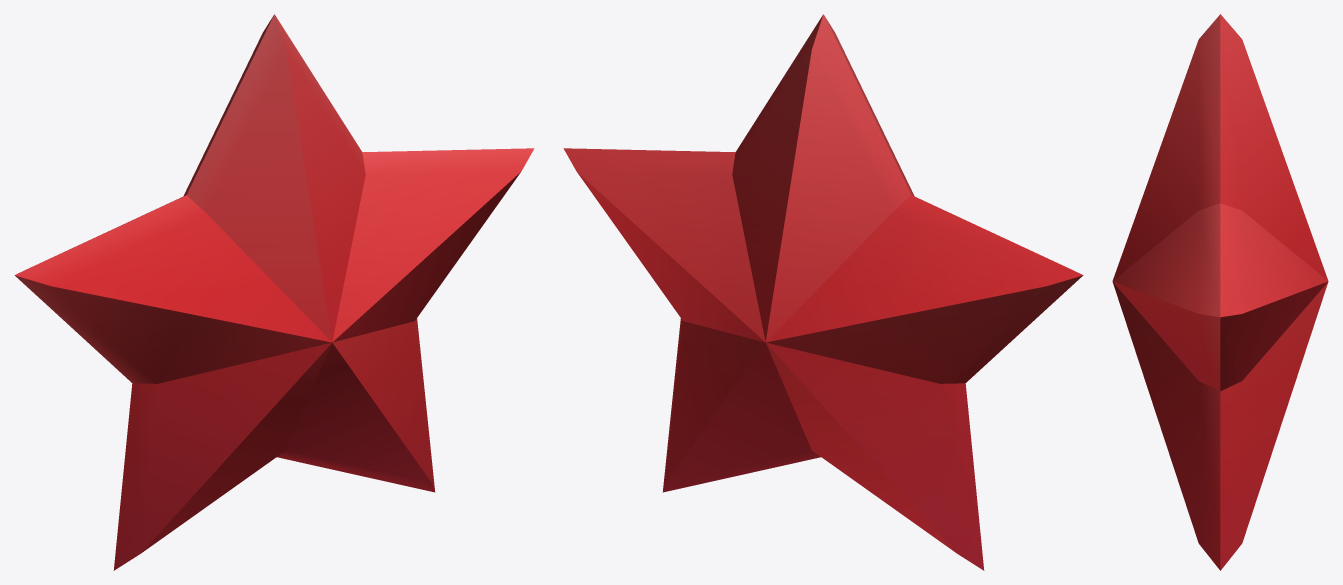
File: star_red.glb
The picture shows the model from 3 angles, left to right: view 1: azimuth 30°, elevation 25°; view 2: azimuth 150°, elevation 25°; view 3: azimuth 270°, elevation 25°; orthographic projection. The views are drawn at different scales.
Parts seen in each view (by area): view 1: star_red; view 2: star_red; view 3: star_red.
Part boxes in pixels (x1,y1,x2,y2): star_red: (14, 14, 534, 570); star_red: (563, 14, 1083, 570); star_red: (1112, 14, 1328, 570).
Size of the model in its own units: 1.17 by 1.11 by 0.4489.
1 material, 1 textured.
